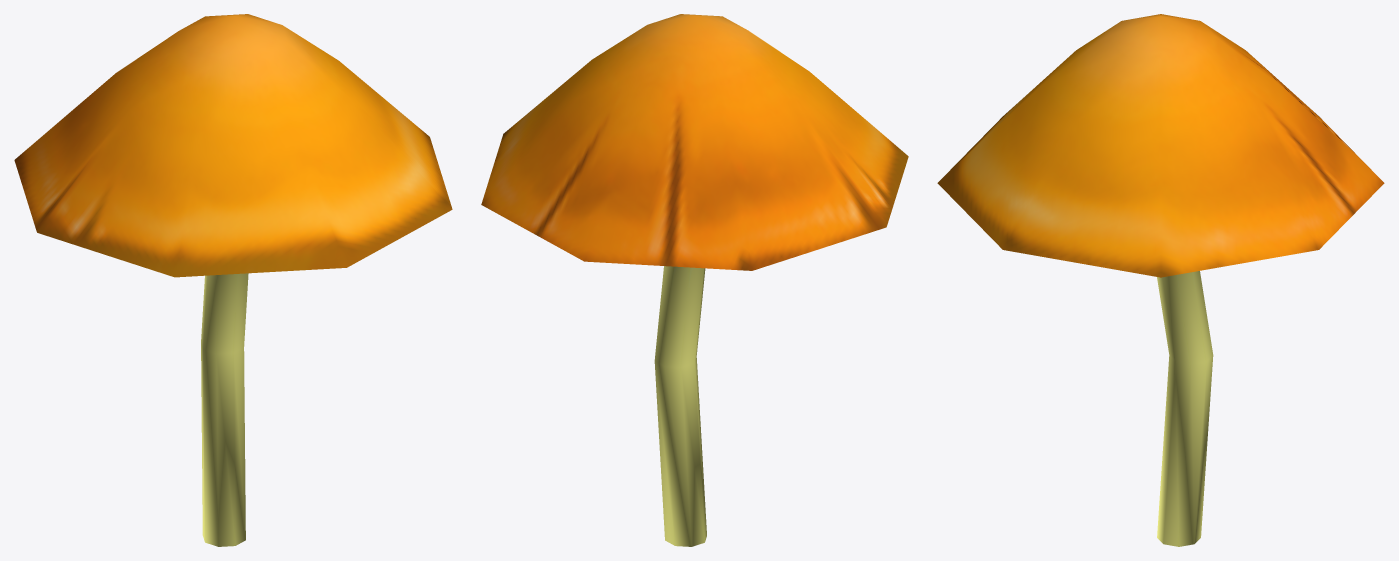
The model's file is Mushroom05.fbx.
3 renders of one model, left to right at view 1: azimuth 30°, elevation 25°; view 2: azimuth 150°, elevation 25°; view 3: azimuth 270°, elevation 25°, orthographic. The views are drawn at different scales.
Visible parts, largest first — view 1: Mushroom05; view 2: Mushroom05; view 3: Mushroom05.
Part boxes in pixels (<box>): Mushroom05: <box>14,14,452,546</box>; Mushroom05: <box>481,14,908,546</box>; Mushroom05: <box>937,14,1384,546</box>.
Size of the model in its own units: 0.8581 by 1.1 by 0.8581.
